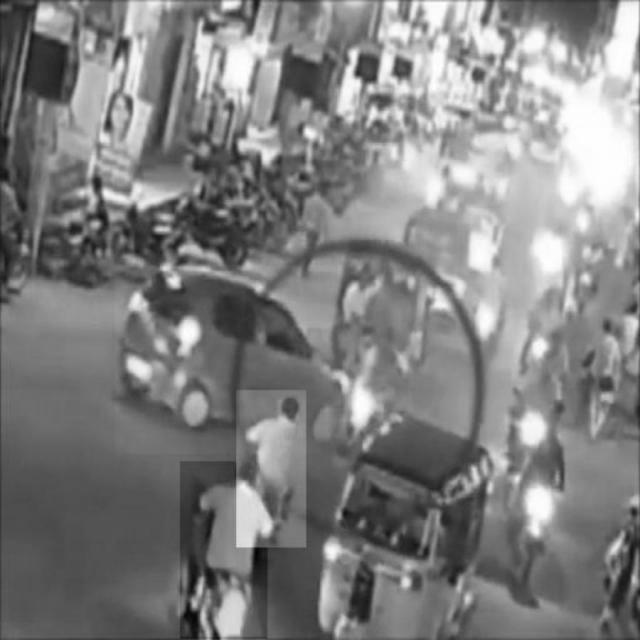accident: (116, 265, 413, 453)
vehicle: (322, 411, 482, 639), (180, 462, 268, 639), (336, 238, 429, 389), (236, 390, 306, 547)
